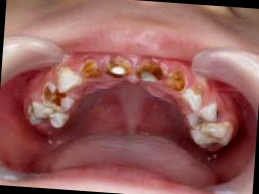Caries: (107, 58, 190, 94), (39, 81, 73, 110), (77, 60, 101, 82)
